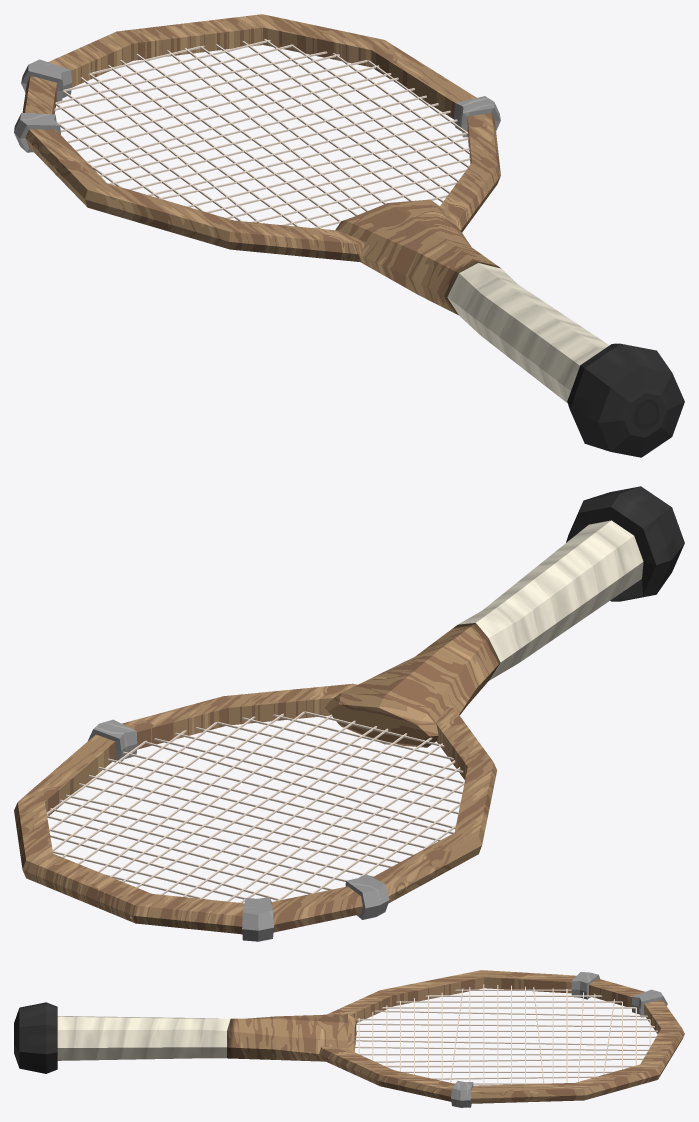
Rendered from Raquette.fbx.
3 views of the same model, one above another, from view 1: azimuth 30°, elevation 25°; view 2: azimuth 150°, elevation 25°; view 3: azimuth 270°, elevation 25° (orthographic). The views are drawn at different scales.
Visible parts, largest first — view 1: raquette-manche, raquette, raquette-anneaux, Boîte015, Boîte016, Boîte014, Boîte017, Boîte012, Boîte013, Boîte011, Boîte018, Boîte010 (+15 smaller); view 2: raquette-manche, raquette, raquette-anneaux, Boîte017, Boîte018, Boîte016, Boîte015, Boîte013, Boîte014, Boîte019, Boîte012, Boîte020 (+16 smaller); view 3: raquette-manche, raquette, raquette-anneaux, Boîte041, Boîte031, Boîte034, Boîte035, Boîte033, Boîte032, Boîte030, Boîte029, Boîte036 (+6 smaller).
Boxes of the visible parts, left/top/right/bottom form: raquette-manche: left=335, top=199, right=684, bottom=457; raquette: left=22, top=14, right=500, bottom=261; raquette-anneaux: left=14, top=59, right=500, bottom=152; Boîte015: left=99, top=95, right=426, bottom=176; Boîte016: left=108, top=103, right=438, bottom=184; Boîte014: left=91, top=88, right=414, bottom=167; Boîte017: left=128, top=110, right=450, bottom=190; Boîte012: left=75, top=73, right=391, bottom=151; Boîte013: left=86, top=77, right=398, bottom=162; Boîte011: left=67, top=65, right=379, bottom=142; Boîte018: left=147, top=119, right=457, bottom=195; Boîte010: left=60, top=60, right=367, bottom=132; raquette-manche: left=325, top=486, right=684, bottom=747; raquette: left=14, top=683, right=496, bottom=934; raquette-anneaux: left=88, top=719, right=389, bottom=941; Boîte017: left=108, top=758, right=441, bottom=841; Boîte018: left=122, top=751, right=454, bottom=833; Boîte016: left=98, top=767, right=427, bottom=848; Boîte015: left=88, top=775, right=414, bottom=855; Boîte013: left=65, top=794, right=391, bottom=867; Boîte014: left=79, top=783, right=400, bottom=863; Boîte019: left=143, top=741, right=455, bottom=828; Boîte012: left=60, top=799, right=373, bottom=877; Boîte020: left=154, top=738, right=458, bottom=814; raquette-manche: left=14, top=1002, right=356, bottom=1073; raquette: left=319, top=970, right=684, bottom=1103; raquette-anneaux: left=451, top=972, right=667, bottom=1107; Boîte041: left=384, top=1065, right=634, bottom=1067; Boîte031: left=356, top=1023, right=654, bottom=1027; Boîte034: left=355, top=1040, right=651, bottom=1046; Boîte035: left=355, top=1046, right=648, bottom=1050; Boîte033: left=355, top=1036, right=683, bottom=1037; Boîte032: left=356, top=1030, right=657, bottom=1031; Boîte030: left=356, top=1019, right=649, bottom=1020; Boîte029: left=374, top=1010, right=647, bottom=1016; Boîte036: left=359, top=1054, right=645, bottom=1055.
Bounding box in the file's own units: 7.39 × 1.89 × 16.64.
4 materials, 3 textured.
